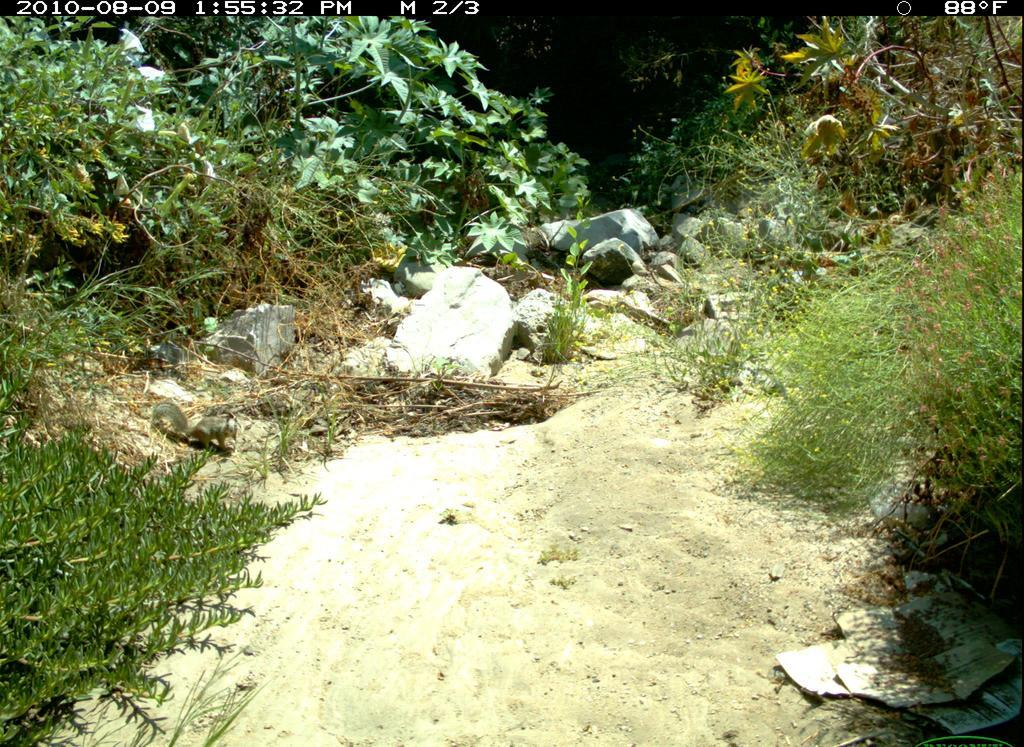squirrel: (150, 376, 249, 459)
